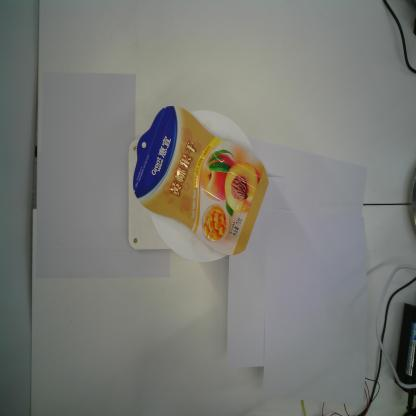Dried Fruit: (133, 105, 269, 256)
